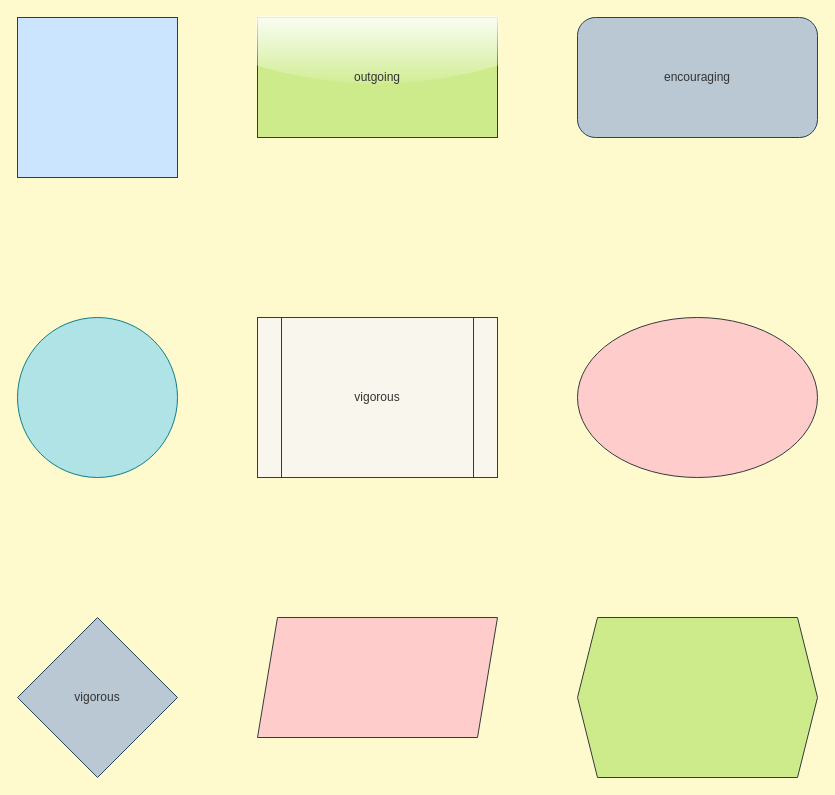
The diagram is 835 pixels wide and 795 high, and some of its shapes have lost their labels. The centre of each missing label's shape, as x and y in pixels:
hover: the point at 697,697
statuesque: the point at 97,97
